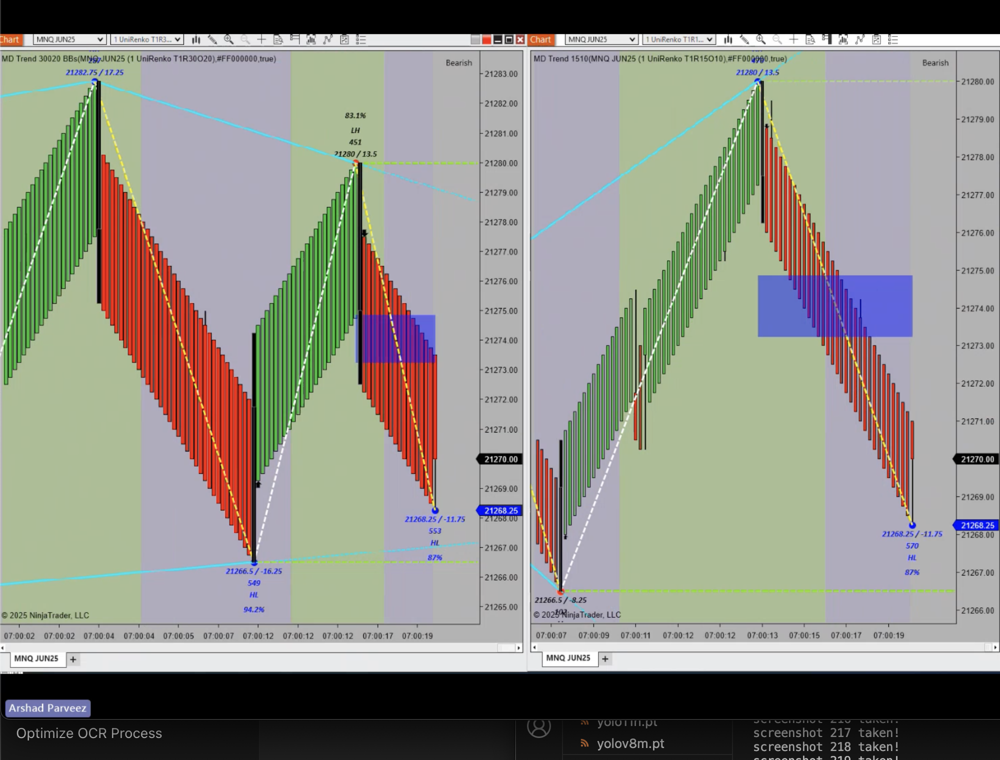HL: (900, 545, 926, 570), (423, 531, 449, 555), (241, 583, 267, 605)
LH: (348, 124, 368, 136)
